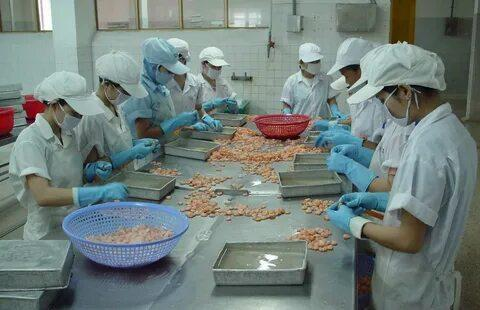hairnet: (358, 39, 479, 98), (17, 52, 110, 120), (90, 53, 152, 112), (272, 24, 335, 79), (138, 36, 190, 80), (202, 40, 238, 76)
mask: (360, 94, 427, 141), (50, 102, 98, 152), (110, 80, 152, 116), (154, 56, 175, 94), (204, 63, 231, 78), (304, 60, 325, 74)
